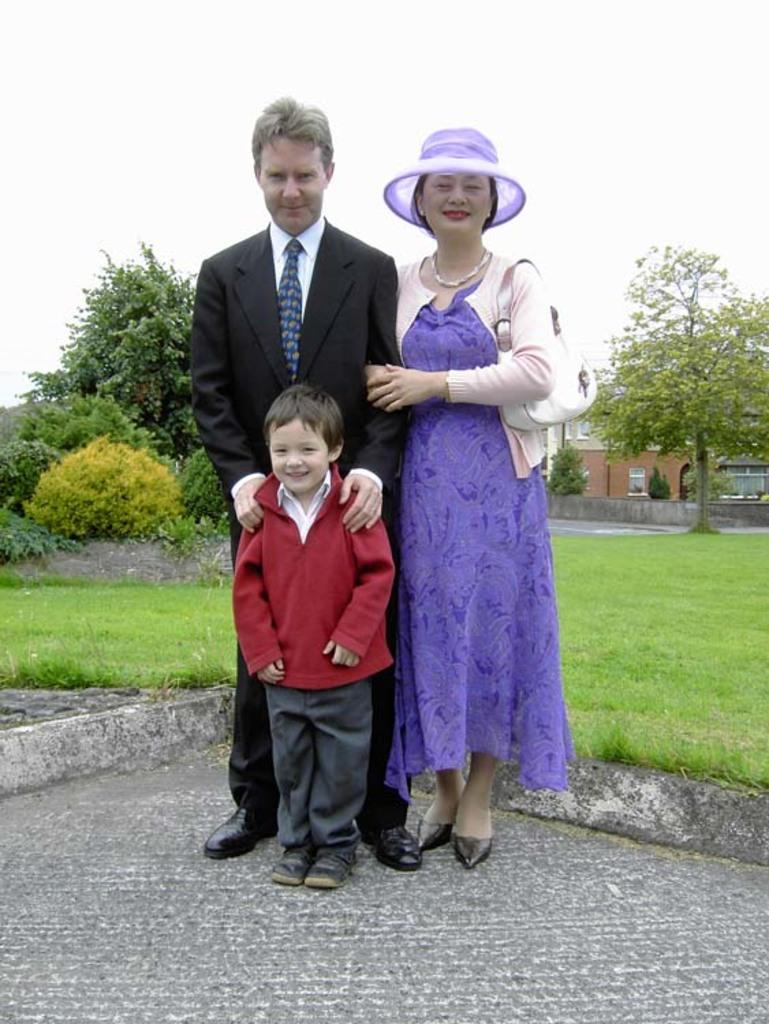Hat: (384, 122, 524, 230)
